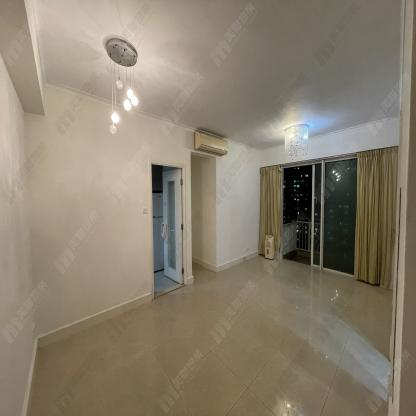AC: (194, 131, 228, 156)
